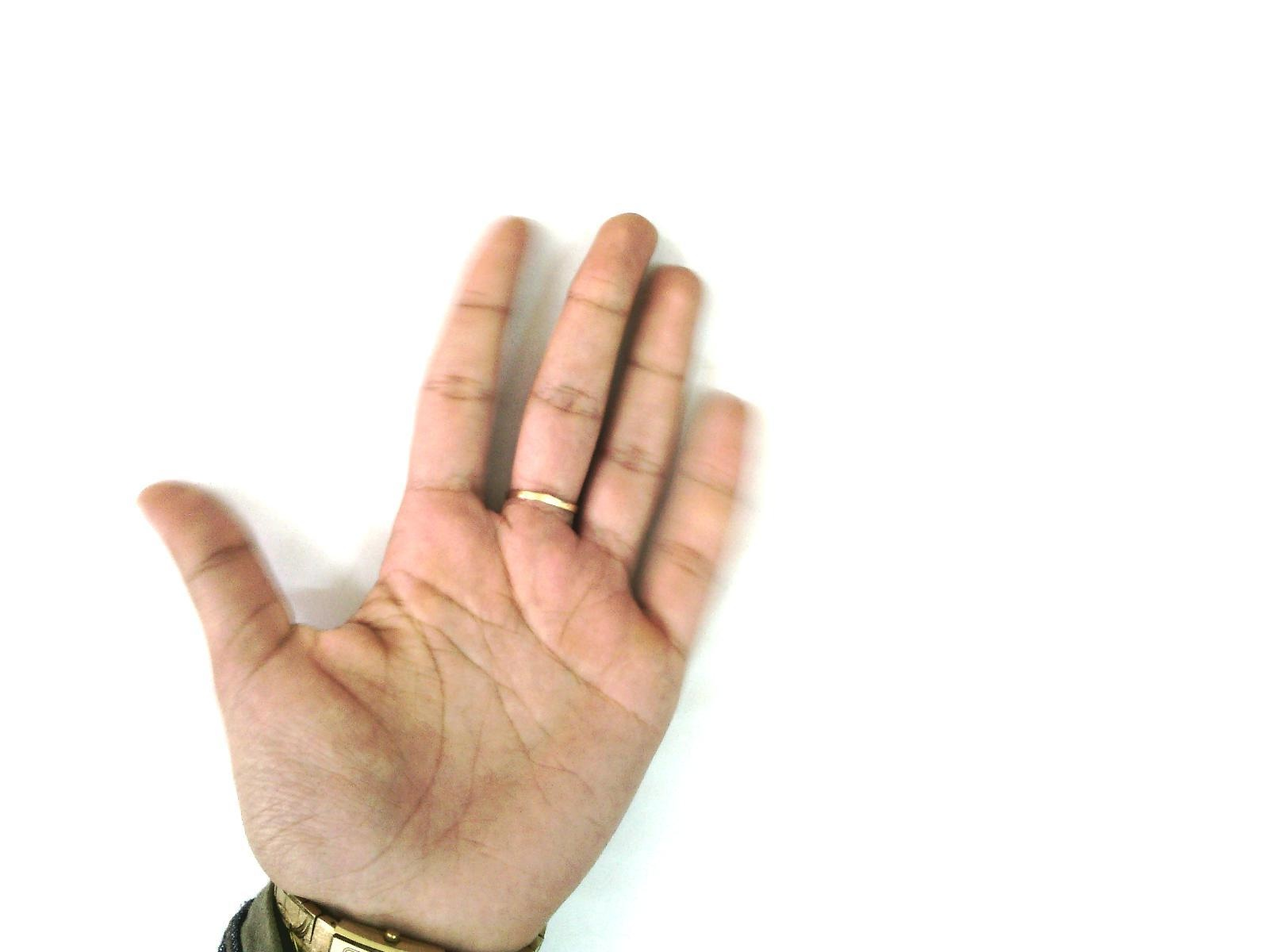open_palm: (136, 210, 765, 950)
